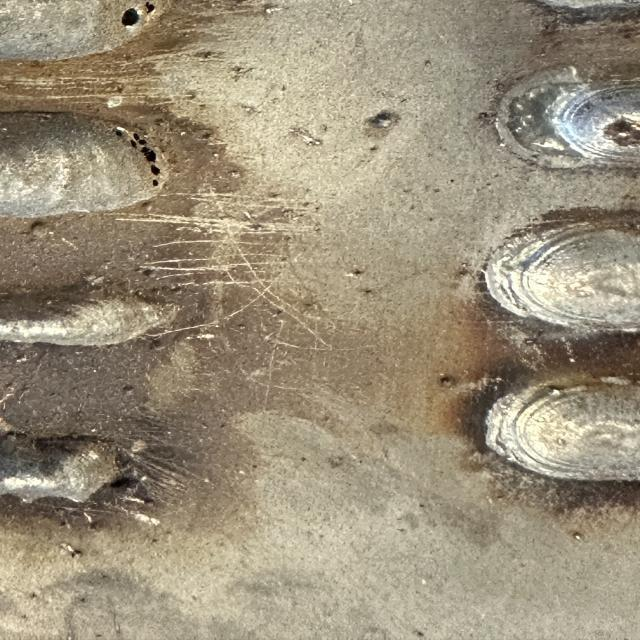Excess Reinforcement: (0, 434, 118, 502)
Porosity: (122, 9, 140, 26), (142, 146, 157, 161), (133, 132, 147, 145), (145, 2, 155, 13), (151, 165, 160, 175), (115, 129, 122, 136), (131, 140, 137, 148), (152, 180, 158, 186)
Spatters: (368, 112, 393, 128), (58, 542, 82, 558), (32, 221, 48, 238), (135, 266, 157, 278), (438, 375, 457, 387), (302, 135, 322, 145), (15, 610, 28, 624), (150, 339, 165, 350), (345, 269, 363, 278), (140, 200, 153, 212), (122, 384, 135, 394), (265, 6, 278, 14), (15, 355, 28, 363), (573, 531, 583, 541), (550, 389, 562, 396), (557, 438, 567, 446), (27, 592, 38, 599), (117, 84, 125, 92), (243, 211, 252, 218), (423, 59, 432, 66), (238, 324, 247, 330), (103, 260, 112, 265), (180, 131, 187, 136), (213, 152, 218, 157), (80, 598, 85, 602)
